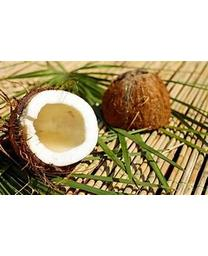coconut: (6, 85, 100, 171), (102, 68, 172, 131)
